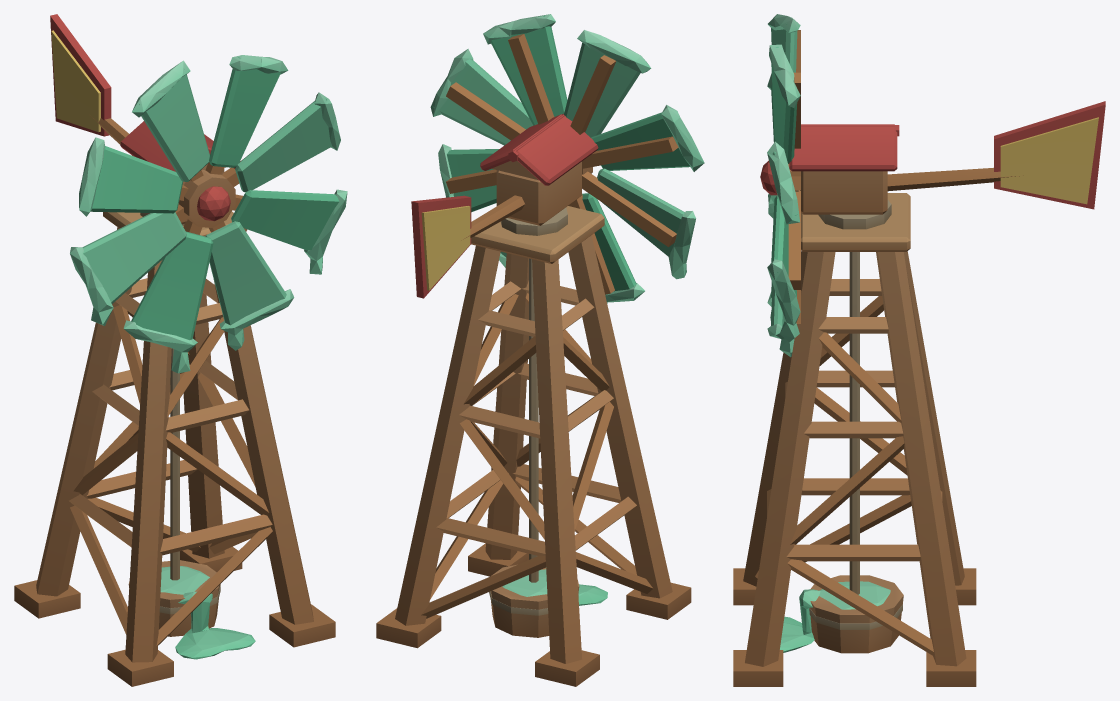
The model's file is ranch_windmill.fbx.
The picture shows the model from 3 angles, left to right: view 1: azimuth 30°, elevation 25°; view 2: azimuth 150°, elevation 25°; view 3: azimuth 270°, elevation 25°; orthographic projection. The views are drawn at different scales.
Parts seen in each view (by area): view 1: ranch_windmill; view 2: ranch_windmill; view 3: ranch_windmill.
Boxes of the visible parts, left/top/right/bottom form: ranch_windmill: left=14, top=14, right=347, bottom=686; ranch_windmill: left=376, top=14, right=704, bottom=686; ranch_windmill: left=733, top=14, right=1105, bottom=686.
Size of the model in its own units: 8.38 by 17.39 by 9.65.
